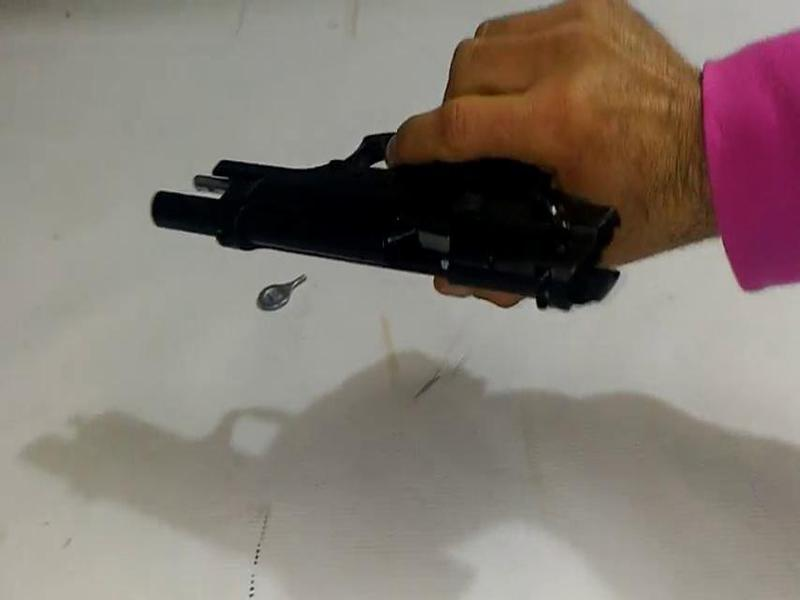Pistola: (150, 68, 666, 367)
